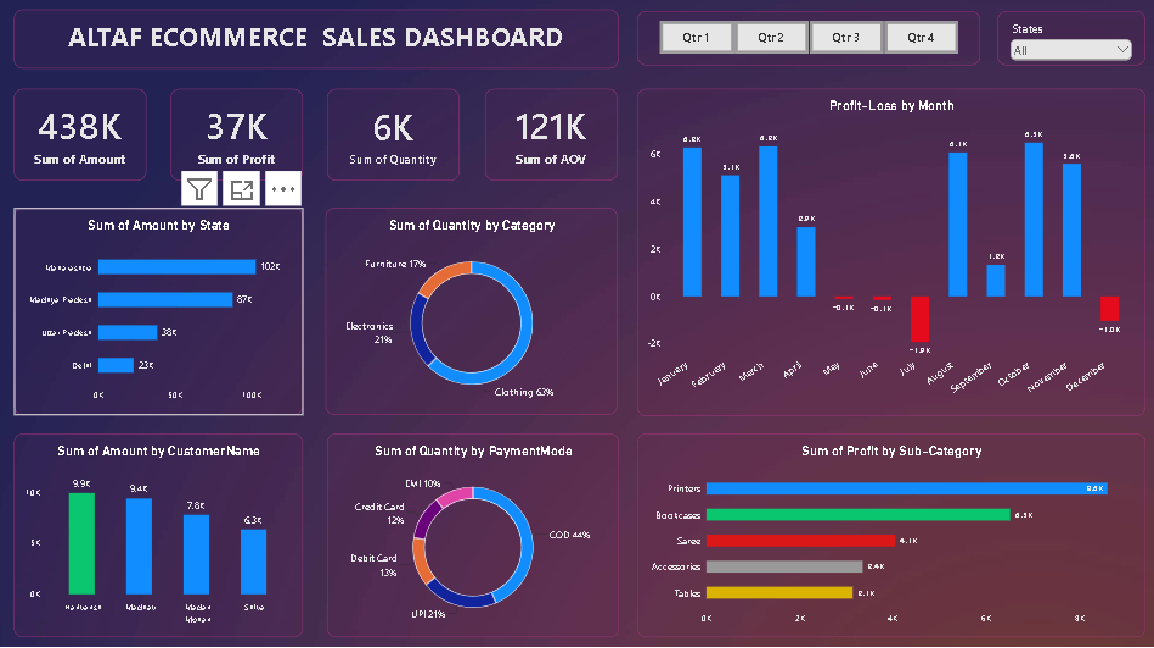

This screenshot's page, from the dashboard's own definition file:
{"tool":"powerbi","page":{"name":"Page 1","canvas":[1920,1080],"ordinal":0},"visuals":[{"type":"textbox","box":[35,26.8,994.2,96.7],"z":0},{"type":"columnChart","title":"Profit-Loss by Month","fields":{"Category":["Orders.Order Date.Variation.Date Hierarchy.Month"],"Y":["Sum(Details.Profit)"]},"box":[1060.7,157.1,835.7,535.7],"z":1000},{"type":"barChart","fields":{"Category":["Details.Sub-Category"],"Y":["Sum(Details.Profit)"]},"box":[1060.7,723.2,835.7,333.9],"z":2000},{"type":"donutChart","fields":{"Series":["Details.Category"],"Y":["Sum(Details.Quantity)"]},"box":[547.5,352,480.4,339.3],"z":3000},{"type":"donutChart","fields":{"Category":["Details.PaymentMode"],"Y":["Sum(Details.Quantity)"]},"box":[550,723.2,480.4,333.9],"z":4000},{"type":"cardVisual","fields":{"Data":["Sum(Details.Amount)"]},"box":[35.7,157.1,217.9,150],"z":4001},{"type":"cardVisual","fields":{"Data":["Sum(Details.Profit)"]},"box":[292.9,157.1,217.9,150],"z":4002},{"type":"cardVisual","fields":{"Data":["Sum(Details.Quantity)"]},"box":[550,157.1,217.9,150],"z":4003},{"type":"cardVisual","fields":{"Data":["Sum(Details.AOV)"]},"box":[808.9,158.5,217.9,150],"z":4004},{"type":"barChart","fields":{"Category":["Orders.State"],"Y":["Sum(Details.Amount)"]},"box":[35.7,353.6,475,339.3],"z":4005},{"type":"columnChart","fields":{"Category":["Orders.CustomerName"],"Y":["Sum(Details.Amount)"]},"box":[35.7,723.2,475,333.9],"z":4006},{"type":"slicer","fields":{"Values":["Orders.Order Date.Variation.Date Hierarchy.Quarter"]},"box":[1060,30.9,564,88.5],"z":4007},{"type":"slicer","fields":{"Values":["Orders.State"]},"box":[1652.8,30.9,242.9,88.5],"z":4008}]}

Visuals, with their boxes in screenshot pixels (x1, y1, x2, y2), scaled from the page's 1920x1080 canvas onto the 1154x648 screenshot:
textbox: 21,16,619,74
"Profit-Loss by Month" columnChart: 638,94,1140,416
barChart - Details.Sub-Category x Sum(Details.Profit): 638,434,1140,634
donutChart - Details.Category x Sum(Details.Quantity): 329,211,618,415
donutChart - Details.PaymentMode x Sum(Details.Quantity): 331,434,619,634
cardVisual - Sum(Details.Amount): 21,94,152,184
cardVisual - Sum(Details.Profit): 176,94,307,184
cardVisual - Sum(Details.Quantity): 331,94,462,184
cardVisual - Sum(Details.AOV): 486,95,617,185
barChart - Orders.State x Sum(Details.Amount): 21,212,307,416
columnChart - Orders.CustomerName x Sum(Details.Amount): 21,434,307,634
slicer - Orders.Order Date.Variation.Date Hierarchy.Quarter: 637,19,976,72
slicer - Orders.State: 993,19,1139,72
